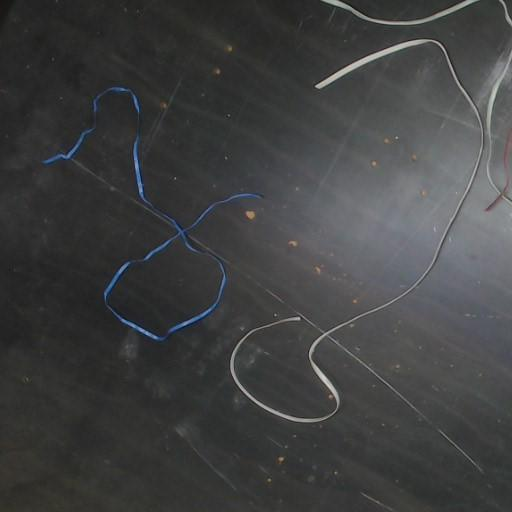conveyor belt: (491, 62, 511, 186), (345, 0, 460, 19)
thread: (229, 38, 511, 423), (43, 86, 261, 341), (321, 0, 483, 26), (320, 0, 483, 25), (497, 0, 511, 27), (317, 76, 335, 88)
